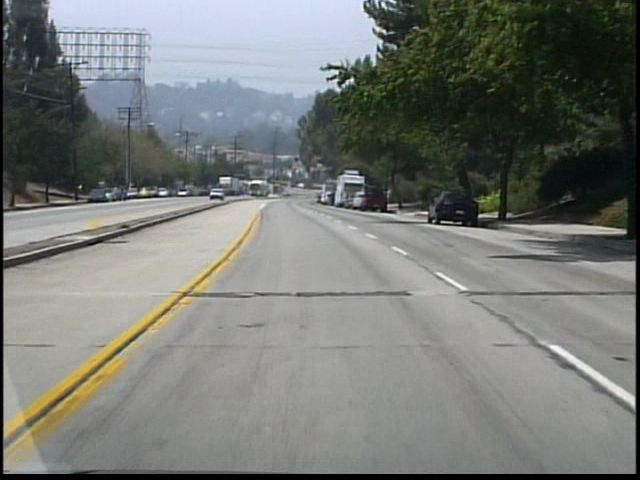person: (384, 183, 395, 209)
